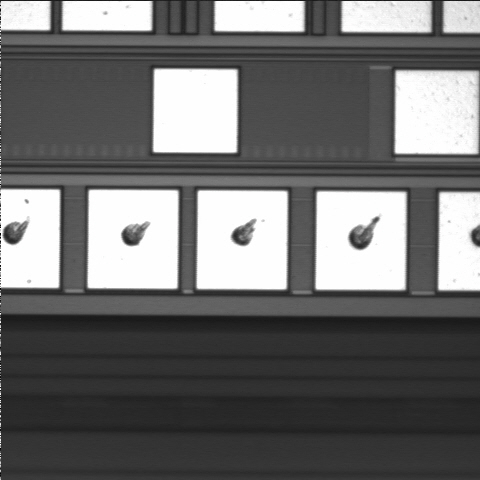pad: (88, 190, 178, 289), (197, 191, 287, 289), (316, 192, 406, 290), (153, 69, 237, 153), (395, 71, 478, 154)
